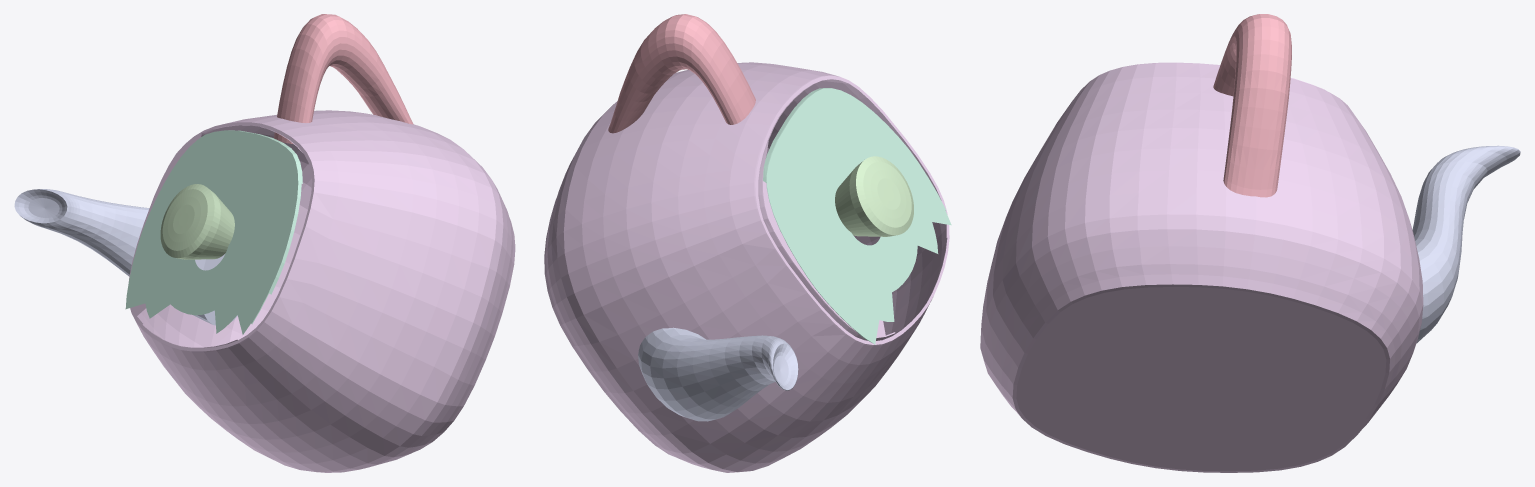
File: view_assembly_9_colored.glb
3 renders of one model, left to right at view 1: azimuth 30°, elevation 25°; view 2: azimuth 150°, elevation 25°; view 3: azimuth 270°, elevation 25°, orthographic. The views are drawn at different scales.
Visible parts, largest first — view 1: world; view 2: world; view 3: world.
Part boxes in pixels (bbox=[...]): world: bbox=[14, 14, 515, 472]; world: bbox=[544, 14, 951, 472]; world: bbox=[980, 14, 1520, 472].
Bounding box in the file's own units: 0.696 × 0.8438 × 0.8731.
